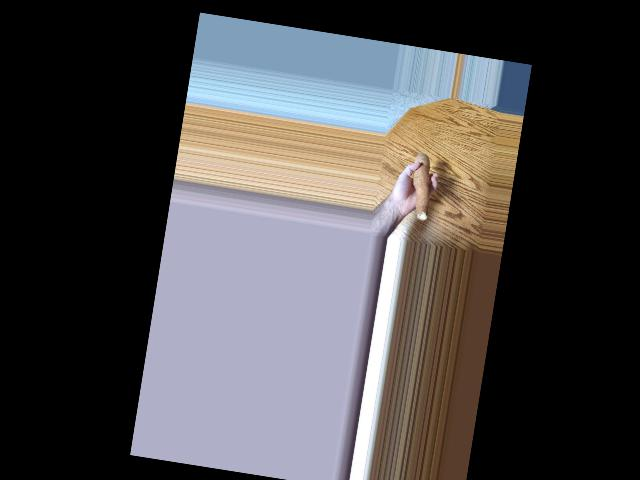sweet_potato: (405, 153, 434, 219)
